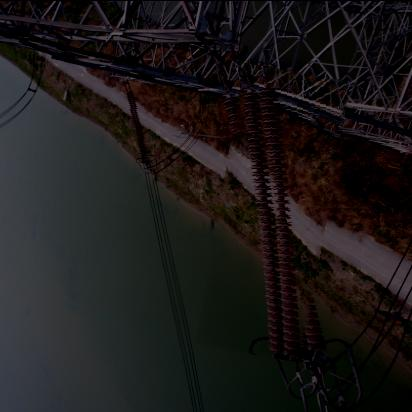insulator: (208, 66, 340, 359), (124, 85, 151, 163)
